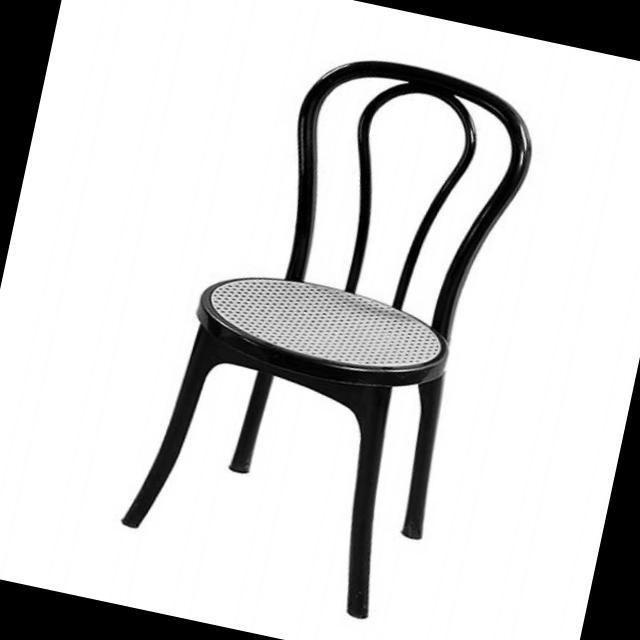chair: (104, 22, 554, 638)
